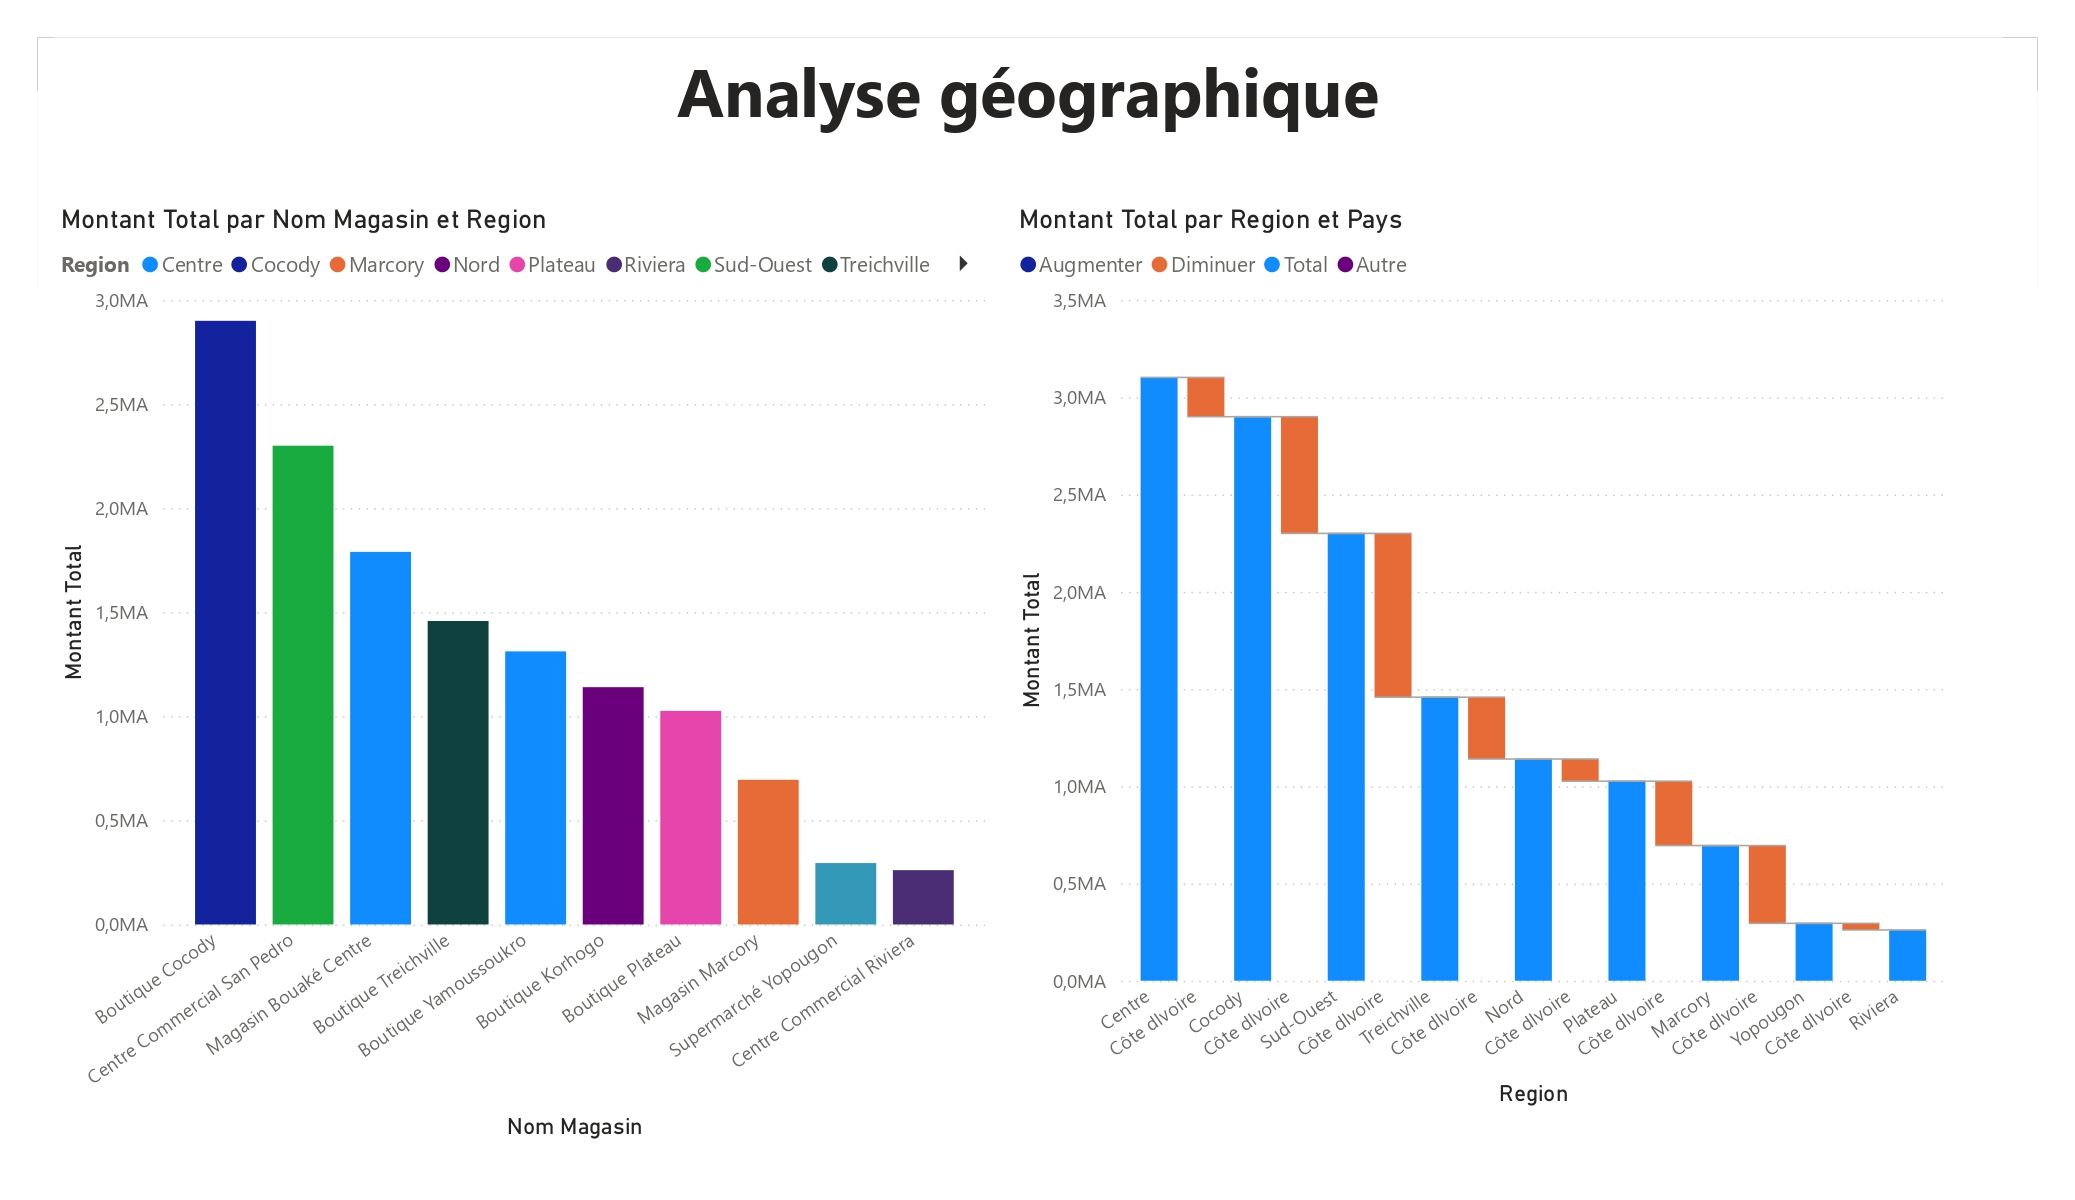

This screenshot's page, from the dashboard's own definition file:
{"tool":"powerbi","page":{"name":"Analyse géographique","canvas":[1280,720],"ordinal":3},"visuals":[{"type":"columnChart","fields":{"Category":["DIM MAGASIN.Nom Magasin"],"Y":["FAIT VENTES.Montant Total"],"Series":["DIM MAGASIN.Region"]},"box":[10.5,106.1,602,603.5],"z":0},{"type":"waterfallChart","fields":{"Category":["DIM MAGASIN.Region"],"Y":["FAIT VENTES.Montant Total"],"Breakdown":["DIM MAGASIN.Pays"]},"box":[622.9,106.1,603.5,582.6],"z":1000},{"type":"textbox","box":[10.5,0,1247.3,106.1],"z":2000}]}

Visuals, with their boxes on the page's 1280x720 design canvas (x1, y1, x2, y2). These are canvas units, not pixel positions in the 2075x1200 screenshot, which may show the page scaled, cropped or inside an application window:
columnChart - DIM MAGASIN.Nom Magasin x FAIT VENTES.Montant Total: {"x1": 10, "y1": 106, "x2": 612, "y2": 710}
waterfallChart - DIM MAGASIN.Region x FAIT VENTES.Montant Total: {"x1": 623, "y1": 106, "x2": 1226, "y2": 689}
textbox: {"x1": 10, "y1": 0, "x2": 1258, "y2": 106}
